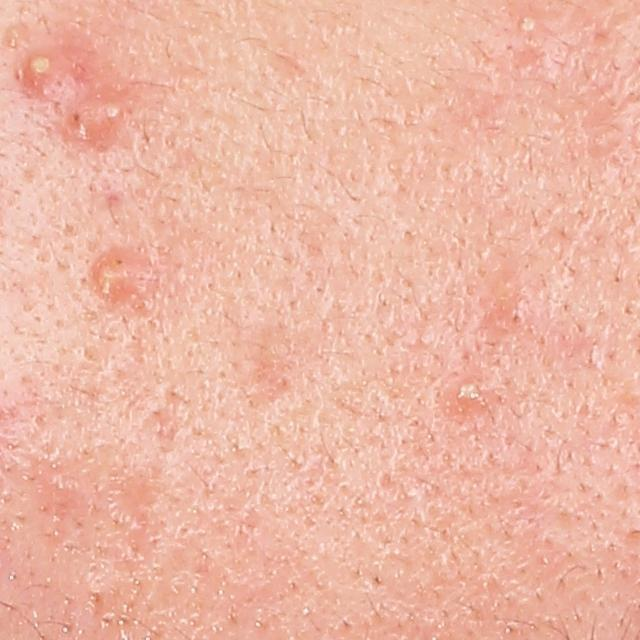comedo: (1, 20, 29, 47), (507, 309, 527, 328)
pustule: (11, 49, 79, 96), (92, 257, 136, 297), (454, 377, 489, 409), (514, 8, 538, 36)
